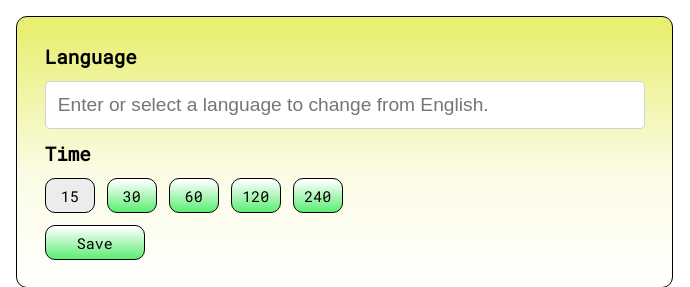
it: Settings › displays dropdown when input is on focus
(page scrolled)
Click the field with test id "langInputField" at (345, 105), box [45,81,645,129]
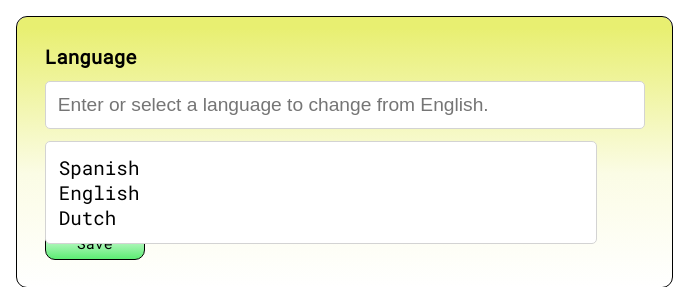
Now the list item "Spanish" is shown, box [59,155,139,180]
